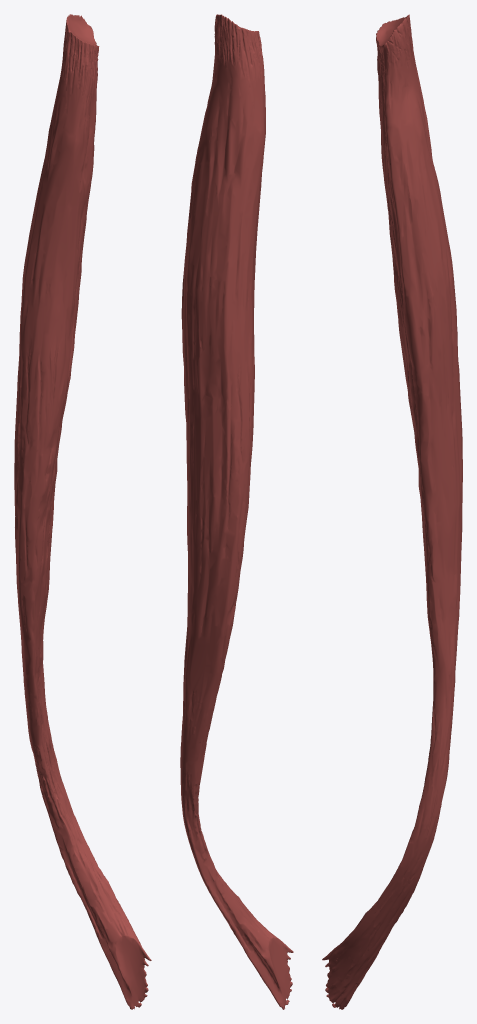
Rendered from FMA22358.glb.
3 renders of one model, left to right at view 1: azimuth 90°, elevation 25°; view 2: azimuth 150°, elevation 25°; view 3: azimuth 270°, elevation 25°, orthographic. The views are drawn at different scales.
Parts seen in each view (by area): view 1: FMA22358; view 2: FMA22358; view 3: FMA22358.
Boxes of the visible parts, x1,y1,x2,y2 form: FMA22358: [14, 14, 151, 1009]; FMA22358: [180, 14, 293, 1009]; FMA22358: [322, 14, 462, 1009].
Size of the model in its own units: 0.0349 by 0.4456 by 0.0565.
